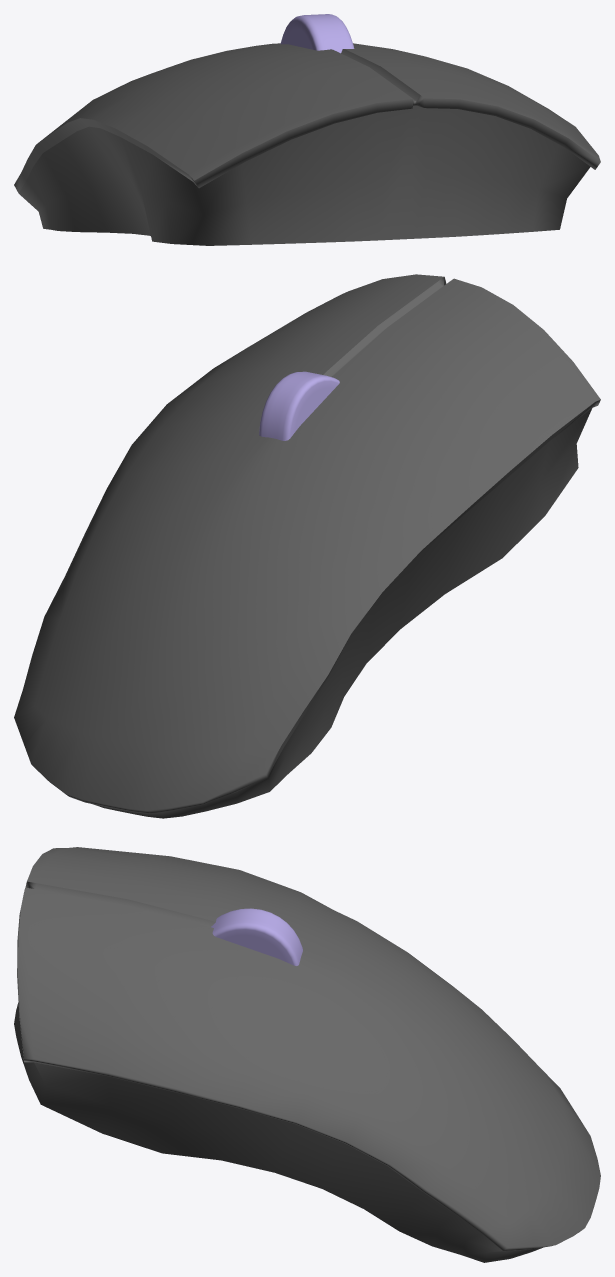
File: mouse.gltf
3 views of the same model, one above another, from view 1: azimuth 30°, elevation 25°; view 2: azimuth 150°, elevation 25°; view 3: azimuth 270°, elevation 25° (orthographic). The views are drawn at different scales.
Visible parts, largest first — view 1: mesh_mouse; view 2: mesh_mouse; view 3: mesh_mouse.
Boxes of the visible parts, left/top/right/bottom form: mesh_mouse: left=14, top=14, right=600, bottom=245; mesh_mouse: left=14, top=274, right=600, bottom=818; mesh_mouse: left=14, top=847, right=600, bottom=1262.
Size of the model in its own units: 0.253 by 0.2129 by 0.3527.
